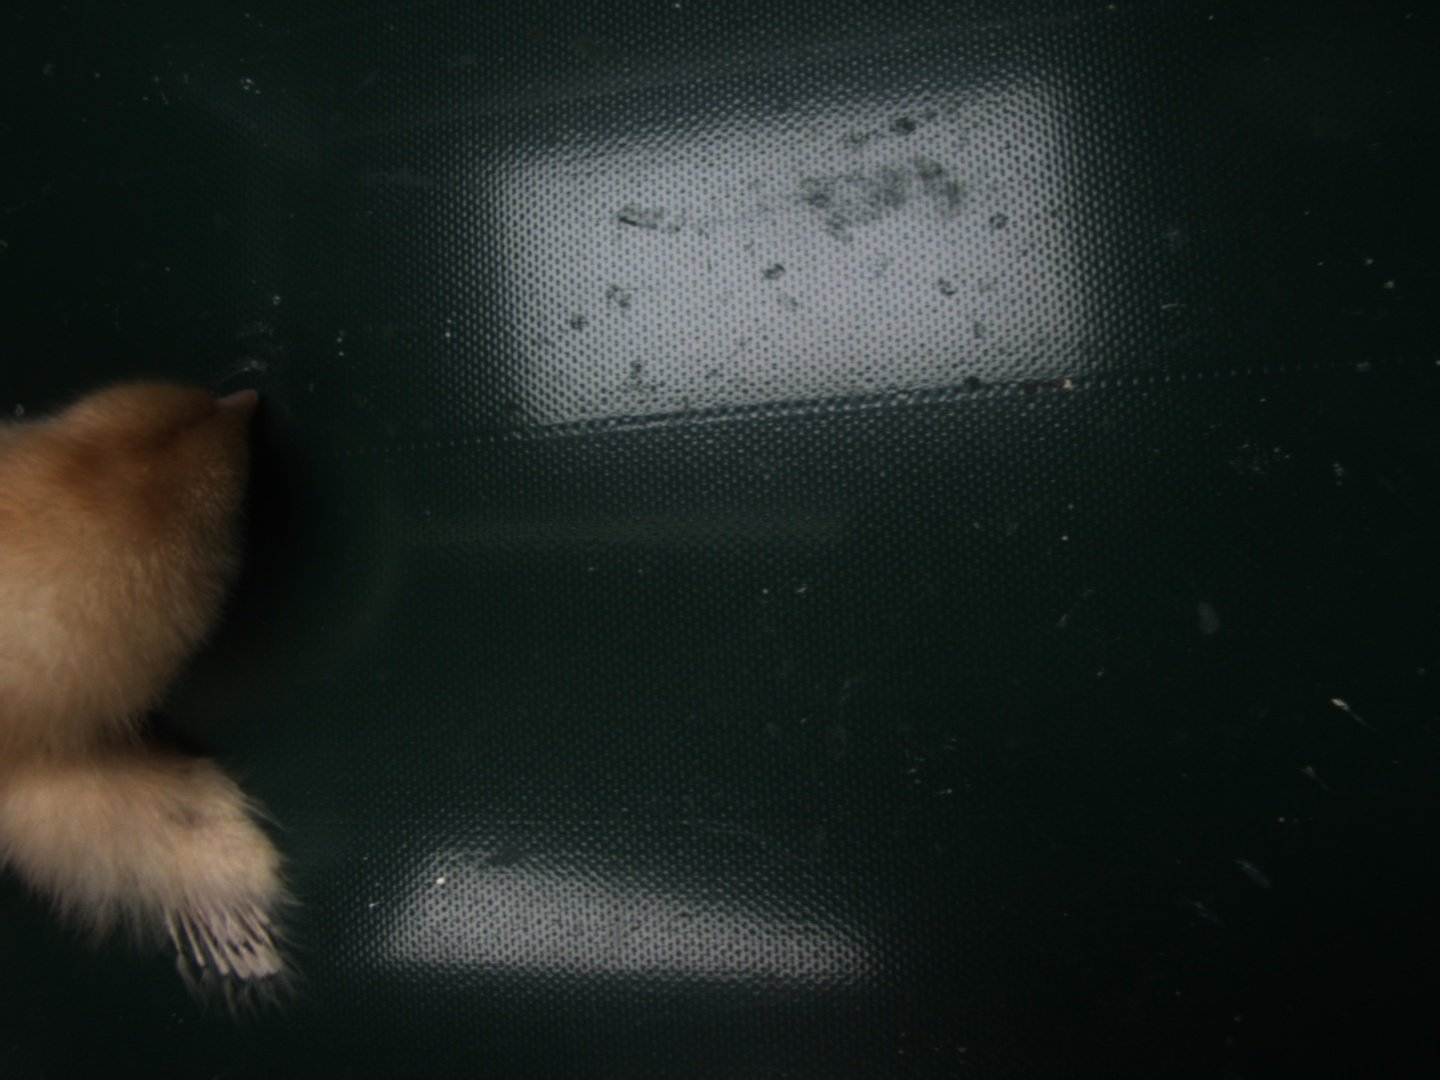female: (160, 897, 282, 981)
